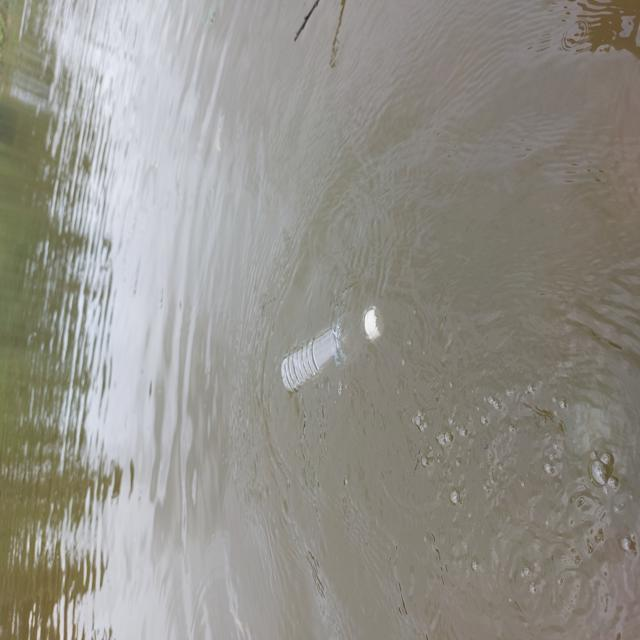waterbottle: (264, 289, 399, 394)
